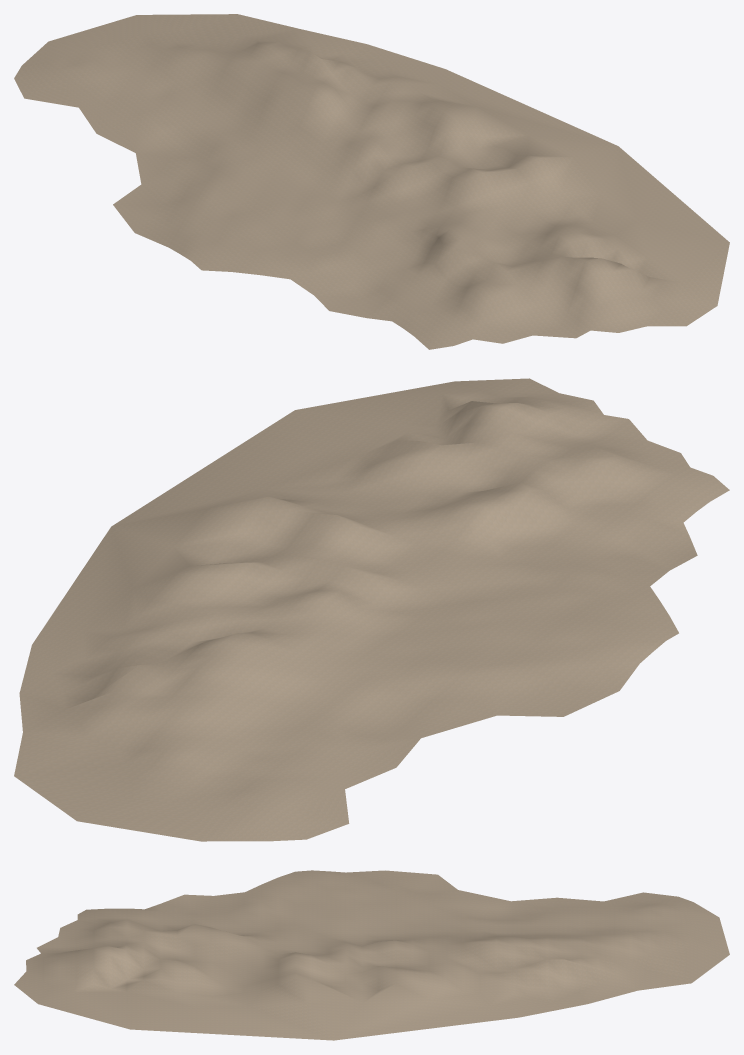
File: M_shatanpengzhuang01.FBX
3 views of the same model, one above another, from view 1: azimuth 30°, elevation 25°; view 2: azimuth 150°, elevation 25°; view 3: azimuth 270°, elevation 25° (orthographic). The views are drawn at different scales.
Parts seen in each view (by area): view 1: M_shatanpengzhuang01; view 2: M_shatanpengzhuang01; view 3: M_shatanpengzhuang01.
Boxes of the visible parts, x1=… form: M_shatanpengzhuang01: x1=14, y1=14, x2=729, y2=349; M_shatanpengzhuang01: x1=14, y1=378, x2=729, y2=841; M_shatanpengzhuang01: x1=14, y1=870, x2=729, y2=1040.
Bounding box in the file's own units: 84.96 × 6.58 × 151.
